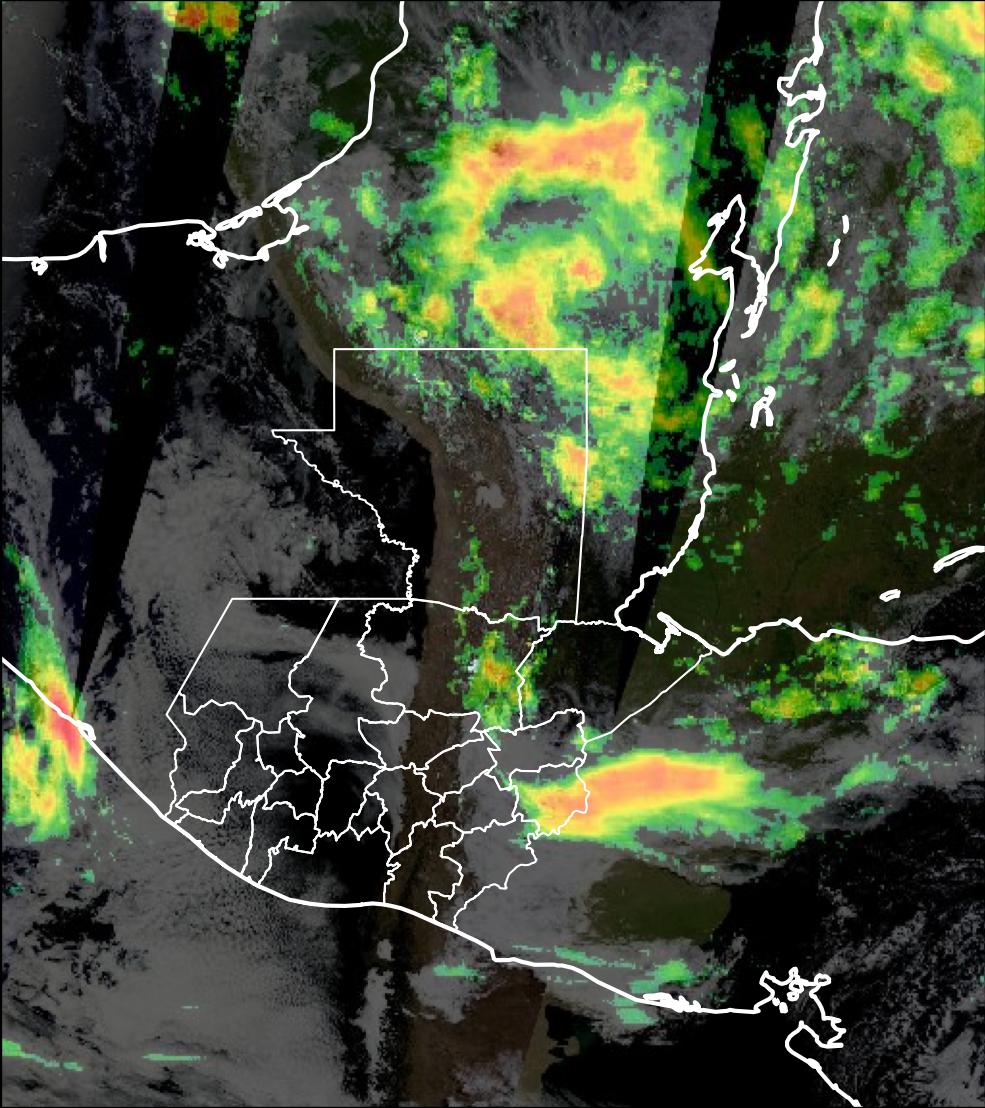precipitacion: (531, 749, 728, 847), (450, 107, 652, 200), (36, 669, 103, 783)
